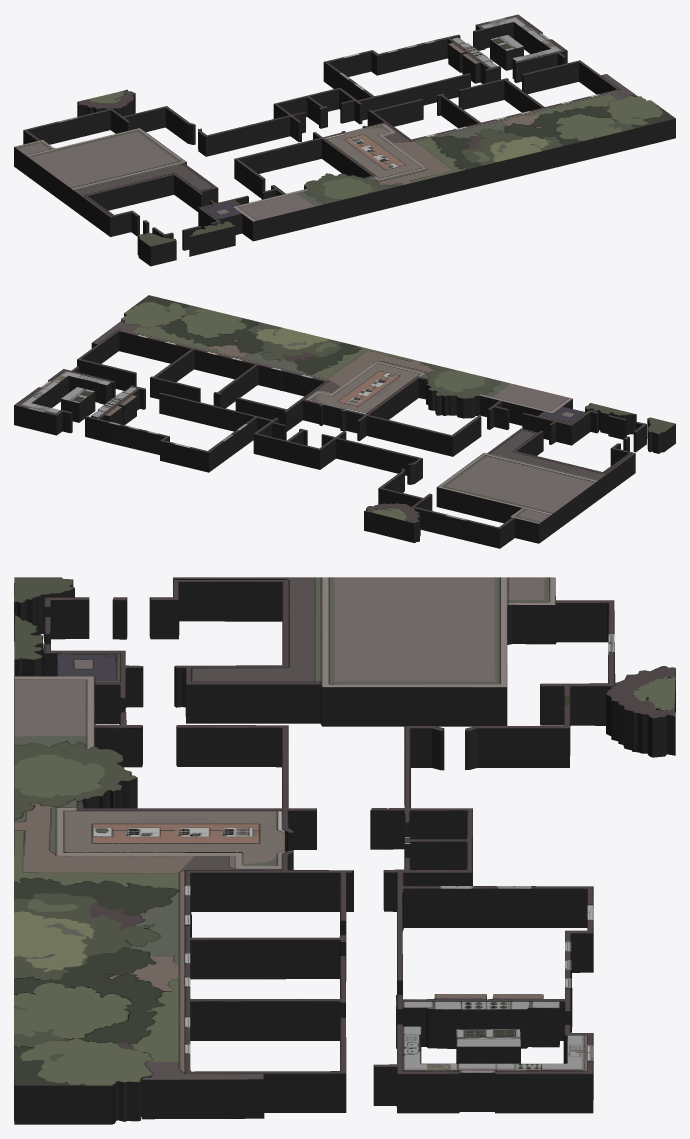
The model's file is walls.glb.
The picture shows the model from 3 angles, top to bottom: view 1: azimuth 30°, elevation 25°; view 2: azimuth 150°, elevation 25°; view 3: azimuth 270°, elevation 25°; orthographic projection. The views are drawn at different scales.
Size of the model in its own units: 5585 by 201 by 3074.
Materials: 20 (10 with a texture image).
